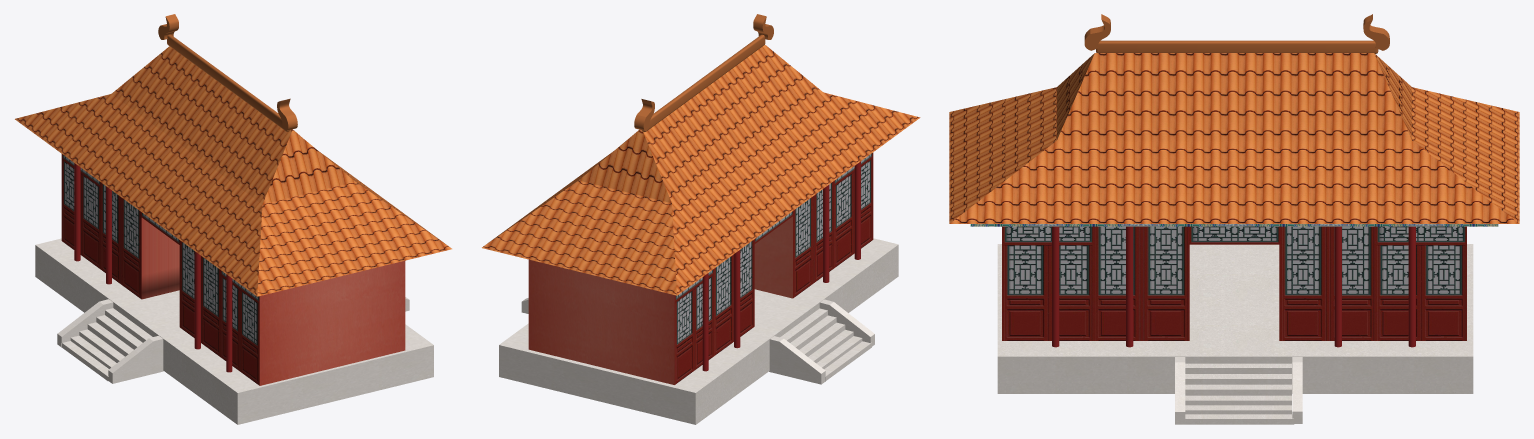
Rendered from yumen.FBX.
3 views of the same model, side by side, from view 1: azimuth 30°, elevation 25°; view 2: azimuth 150°, elevation 25°; view 3: azimuth 270°, elevation 25° (orthographic). The views are drawn at different scales.
Visible parts, largest first — view 1: 12682; view 2: 12682; view 3: 12682.
Boxes of the visible parts, x1,y1,x2,y2 form: 12682: [15, 14, 451, 424]; 12682: [482, 14, 920, 424]; 12682: [949, 14, 1519, 424].
Size of the model in its own units: 242 by 210 by 340.
Materials: 7 (5 with a texture image).
